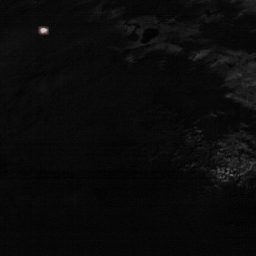Target: (37, 26, 49, 35)
